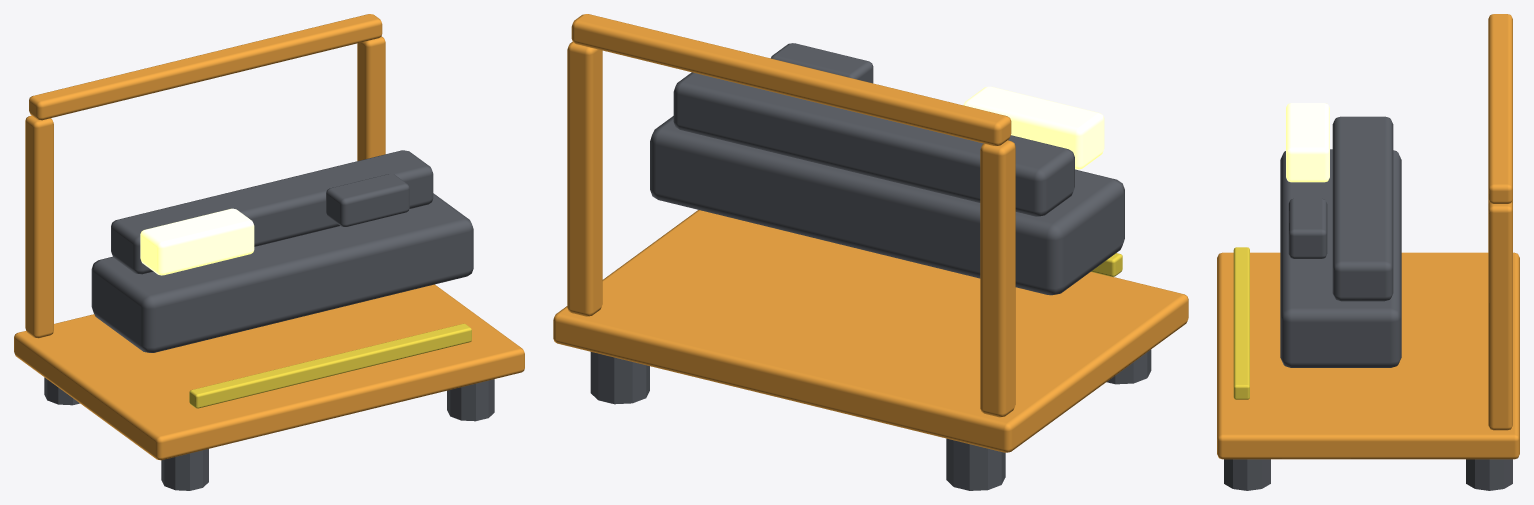
File: dashboard-delivery-cart.glb
3 views of the same model, side by side, from view 1: azimuth 30°, elevation 25°; view 2: azimuth 150°, elevation 25°; view 3: azimuth 270°, elevation 25° (orthographic). The views are drawn at different scales.
Visible parts, largest first — view 1: dashboard-delivery-cart; view 2: dashboard-delivery-cart; view 3: dashboard-delivery-cart.
Part boxes in pixels (<box>): dashboard-delivery-cart: <box>14,14,524,490</box>; dashboard-delivery-cart: <box>553,14,1188,490</box>; dashboard-delivery-cart: <box>1217,14,1519,490</box>.
Bounding box in the file's own units: 1.6 × 1.24 × 1.1.
